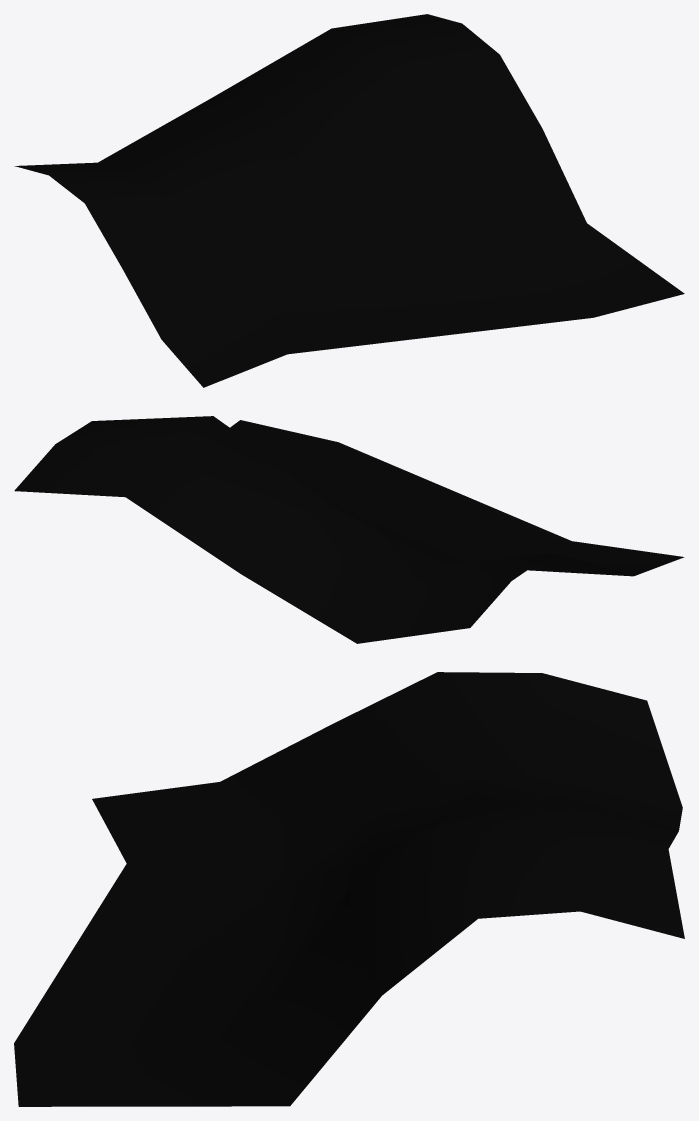
The model's file is HTOWN01_TREESHADOWS08.fbx.
3 renders of one model, top to bottom at view 1: azimuth 30°, elevation 25°; view 2: azimuth 150°, elevation 25°; view 3: azimuth 270°, elevation 25°, orthographic. The views are drawn at different scales.
Parts seen in each view (by area): view 1: HTOWN01_TREESHADOWS08; view 2: HTOWN01_TREESHADOWS08; view 3: HTOWN01_TREESHADOWS08.
Part boxes in pixels (bbox=[...]): HTOWN01_TREESHADOWS08: bbox=[14, 14, 684, 387]; HTOWN01_TREESHADOWS08: bbox=[14, 416, 684, 643]; HTOWN01_TREESHADOWS08: bbox=[14, 672, 684, 1106].
Bounding box in the file's own units: 222976 × 68135 × 203347.
Materials: 1 (1 with a texture image).
